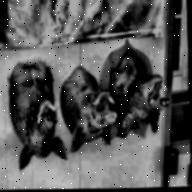boar: (12, 65, 64, 174)
